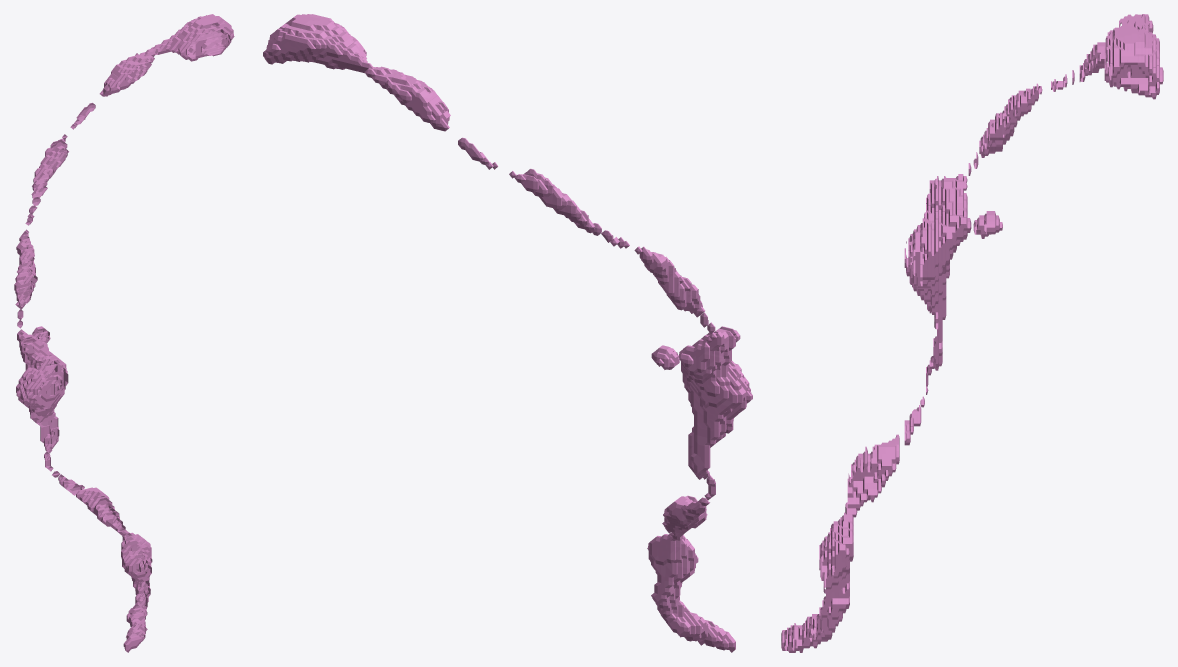
The model's file is SVV_ASKL.gltf.
3 renders of one model, left to right at view 1: azimuth 30°, elevation 25°; view 2: azimuth 150°, elevation 25°; view 3: azimuth 270°, elevation 25°, orthographic. The views are drawn at different scales.
Parts seen in each view (by area): view 1: ASKL; view 2: ASKL; view 3: ASKL.
Boxes of the visible parts, box(x1,y1,x2,y2) form: ASKL: box(14, 14, 234, 652); ASKL: box(263, 14, 752, 652); ASKL: box(781, 14, 1163, 652).
Size of the model in its own units: 53293 by 90158 by 41225.
